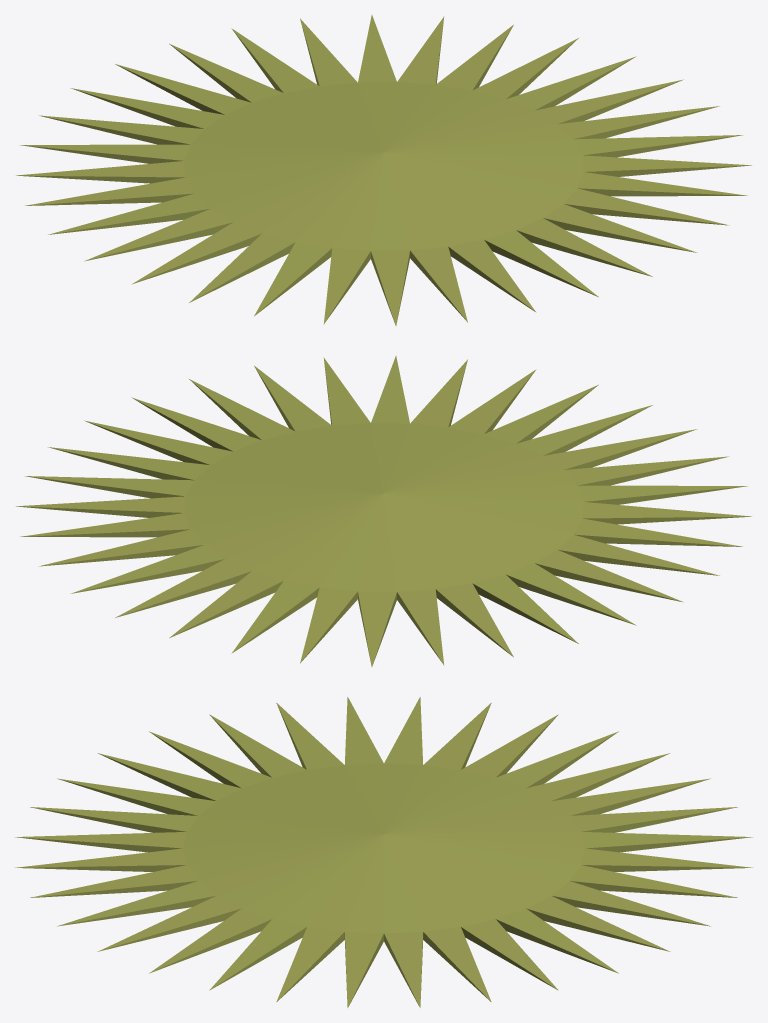
Rendered from sawblade.obj.
The picture shows the model from 3 angles, top to bottom: view 1: azimuth 30°, elevation 25°; view 2: azimuth 150°, elevation 25°; view 3: azimuth 270°, elevation 25°; orthographic projection.
Size of the model in its own units: 11.17 by 0.6068 by 11.17.
